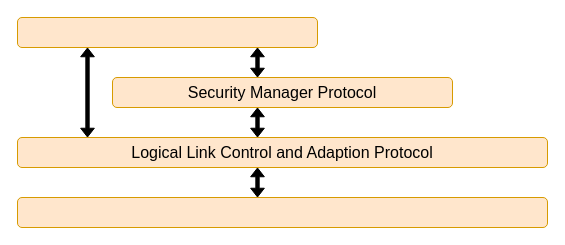
Image size: 565x245. Some labels were removed from this diagram. The shapes that lost their labels are listed below. From the top down, each one's centre as x and y in pixels, then its label:
At pixel 167 32: "Generic Access Profile".
At pixel 282 212: "Link Layer".
